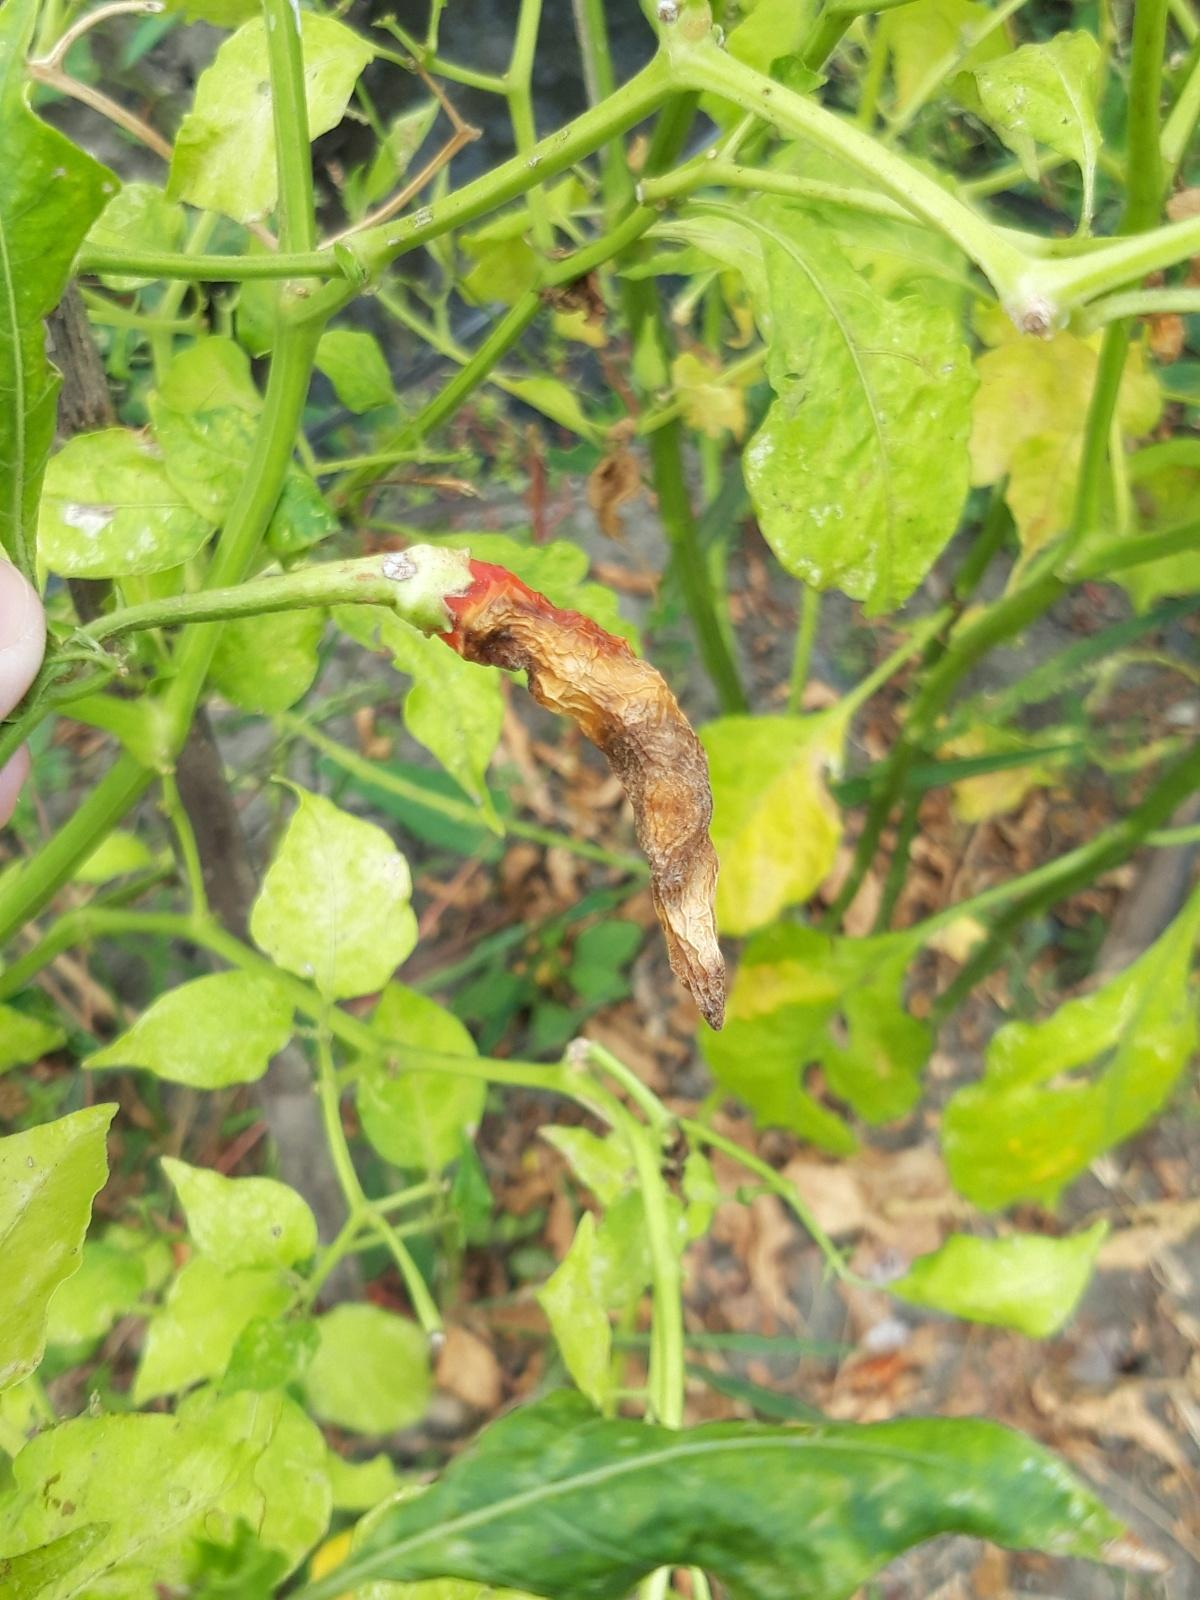antraknosa: (394, 542, 728, 1033)
